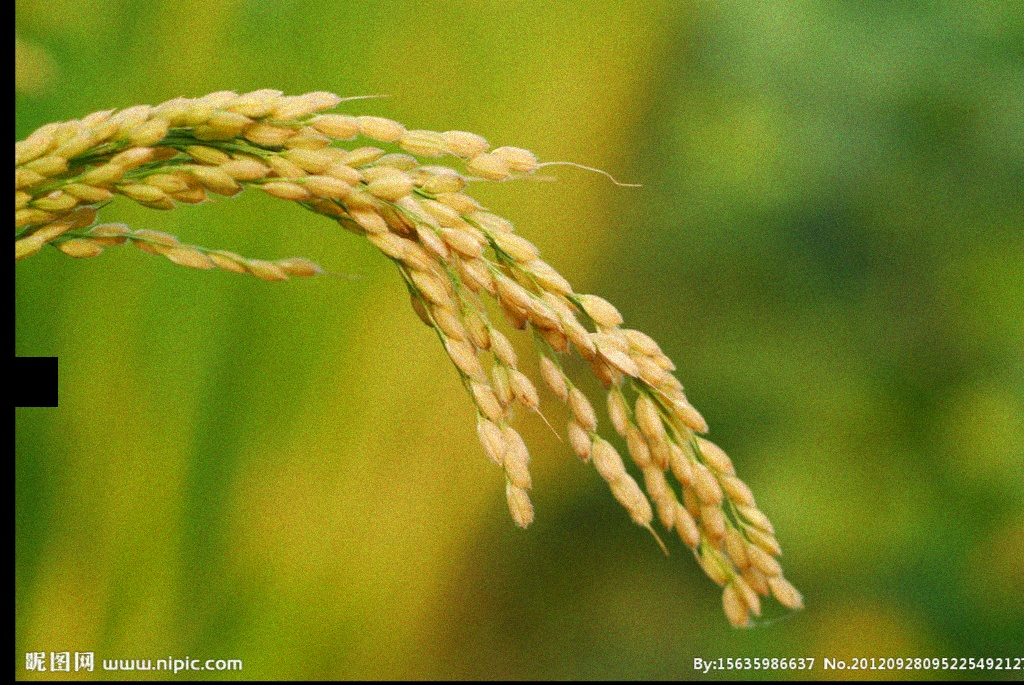rice: (16, 54, 819, 627)
